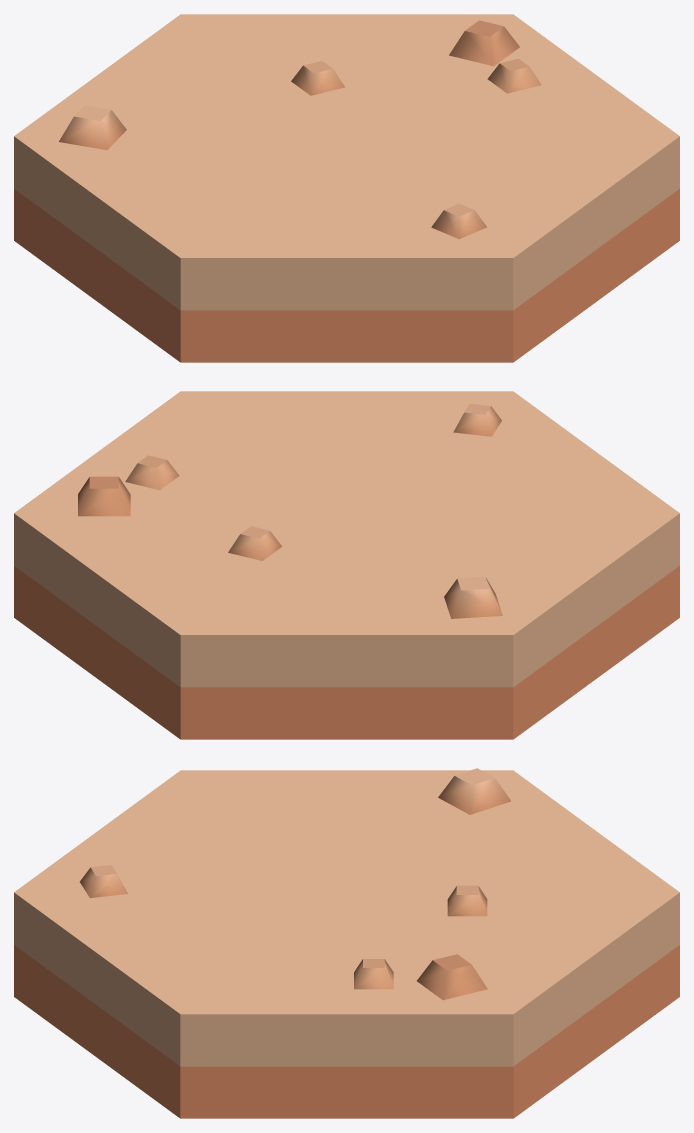
Rendered from kenney-hexagon-sand-rocks.glb.
3 renders of one model, top to bottom at view 1: azimuth 30°, elevation 25°; view 2: azimuth 150°, elevation 25°; view 3: azimuth 270°, elevation 25°, orthographic.
Visible parts, largest first — view 1: sand_rocks; view 2: sand_rocks; view 3: sand_rocks.
Boxes of the visible parts, x1=… form: sand_rocks: x1=14, y1=14, x2=679, y2=362; sand_rocks: x1=14, y1=391, x2=679, y2=739; sand_rocks: x1=14, y1=768, x2=679, y2=1118.
Bounding box in the file's own units: 1 × 0.2434 × 1.15.
Materials: 1 (1 with a texture image).
